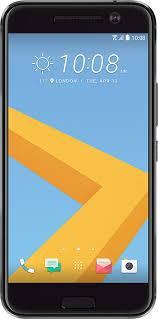Smartphone: (6, 5, 149, 316)
